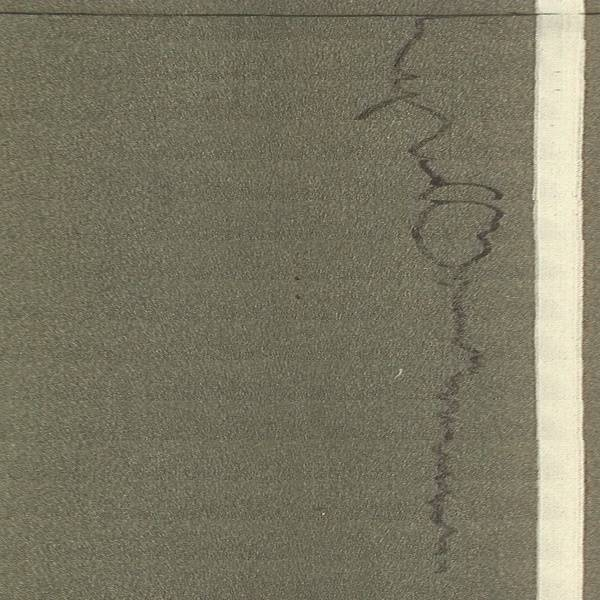road_damage: (405, 127, 512, 585), (1, 5, 525, 23)
